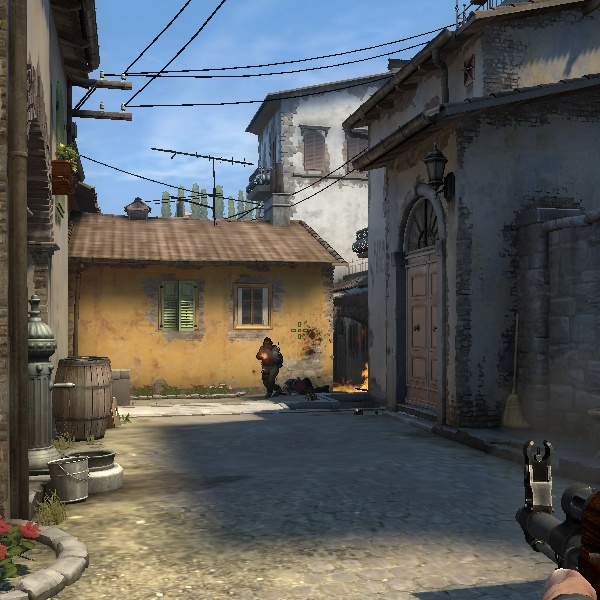t_body: (247, 333, 285, 398)
